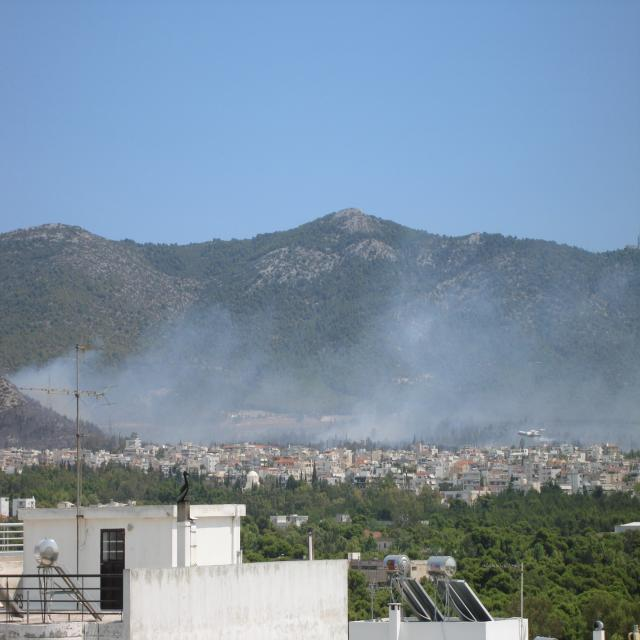MIL_Plane: (518, 428, 545, 437)
